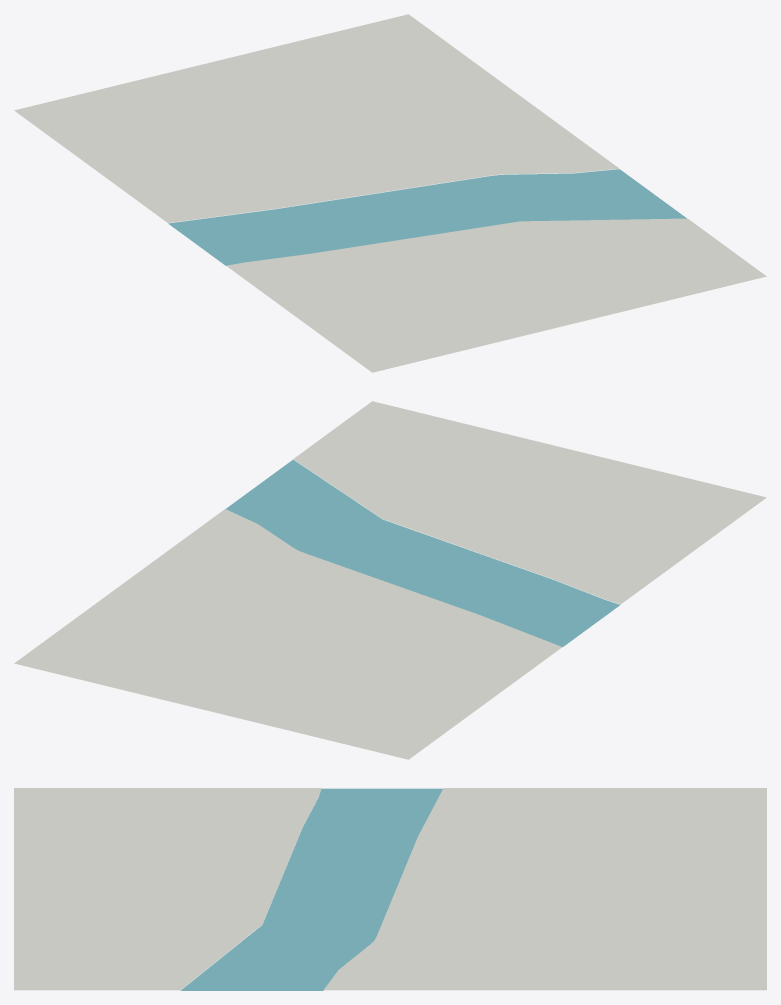
3 views of the same model, one above another, from view 1: azimuth 30°, elevation 25°; view 2: azimuth 150°, elevation 25°; view 3: azimuth 270°, elevation 25° (orthographic). The views are drawn at different scales.
Visible parts, largest first — view 1: city; view 2: city; view 3: city.
Boxes of the visible parts, x1,y1,x2,y2 form: city: [14, 14, 766, 372]; city: [14, 401, 766, 759]; city: [14, 788, 766, 990].
Size of the model in its own units: 204 by 0.18 by 321.
